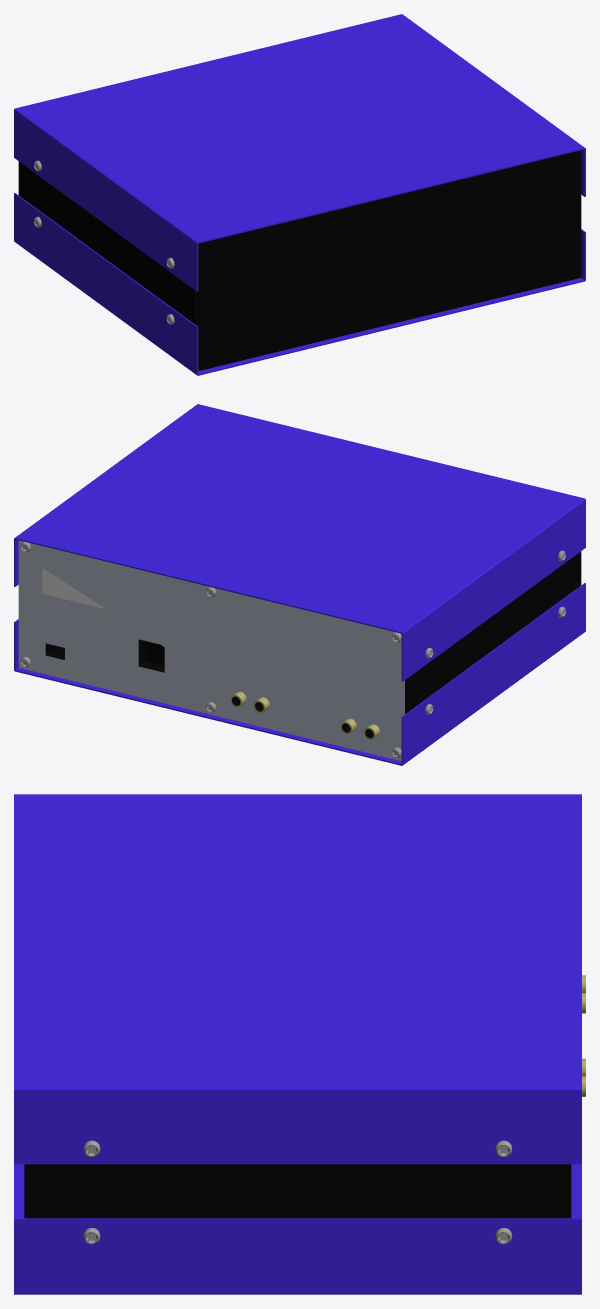
Rendered from IPS1.fbx.
The picture shows the model from 3 angles, top to bottom: view 1: azimuth 30°, elevation 25°; view 2: azimuth 150°, elevation 25°; view 3: azimuth 270°, elevation 25°; orthographic projection. The views are drawn at different scales.
Parts seen in each view (by area): view 1: Okantovka, Pribor; view 2: Okantovka, Pribor, Glass; view 3: Okantovka, Pribor, Cylinder.001.
Boxes of the visible parts, bbox=[...] form: Okantovka: bbox=[14, 14, 585, 375]; Pribor: bbox=[18, 150, 581, 370]; Okantovka: bbox=[14, 404, 585, 765]; Pribor: bbox=[18, 540, 581, 760]; Glass: bbox=[42, 568, 106, 609]; Okantovka: bbox=[14, 794, 581, 1294]; Pribor: bbox=[24, 1164, 571, 1218]; Cylinder.001: bbox=[83, 1140, 512, 1244].
Bounding box in the file's own units: 2046 × 660 × 1652.
